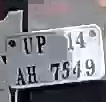1: (65, 30, 74, 52)
4: (75, 31, 87, 50), (70, 60, 82, 79)
5: (61, 59, 69, 80)
7: (48, 61, 60, 82)
9: (85, 57, 97, 78)
A: (14, 67, 26, 87)
H: (26, 65, 38, 84)
P: (35, 35, 47, 56)
U: (21, 35, 34, 57)
